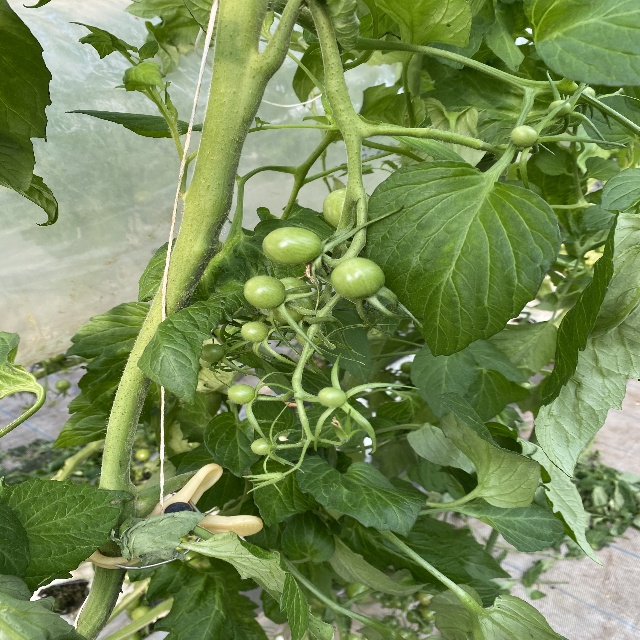l_green: (330, 257, 386, 299), (263, 228, 322, 266), (243, 275, 286, 310), (269, 293, 315, 325), (322, 187, 347, 231), (278, 277, 312, 297), (510, 125, 538, 147), (240, 321, 268, 343), (317, 387, 346, 408), (227, 384, 256, 404), (200, 343, 226, 362), (571, 85, 596, 104), (296, 327, 320, 346), (547, 100, 572, 118), (250, 438, 276, 455), (199, 356, 215, 368)
